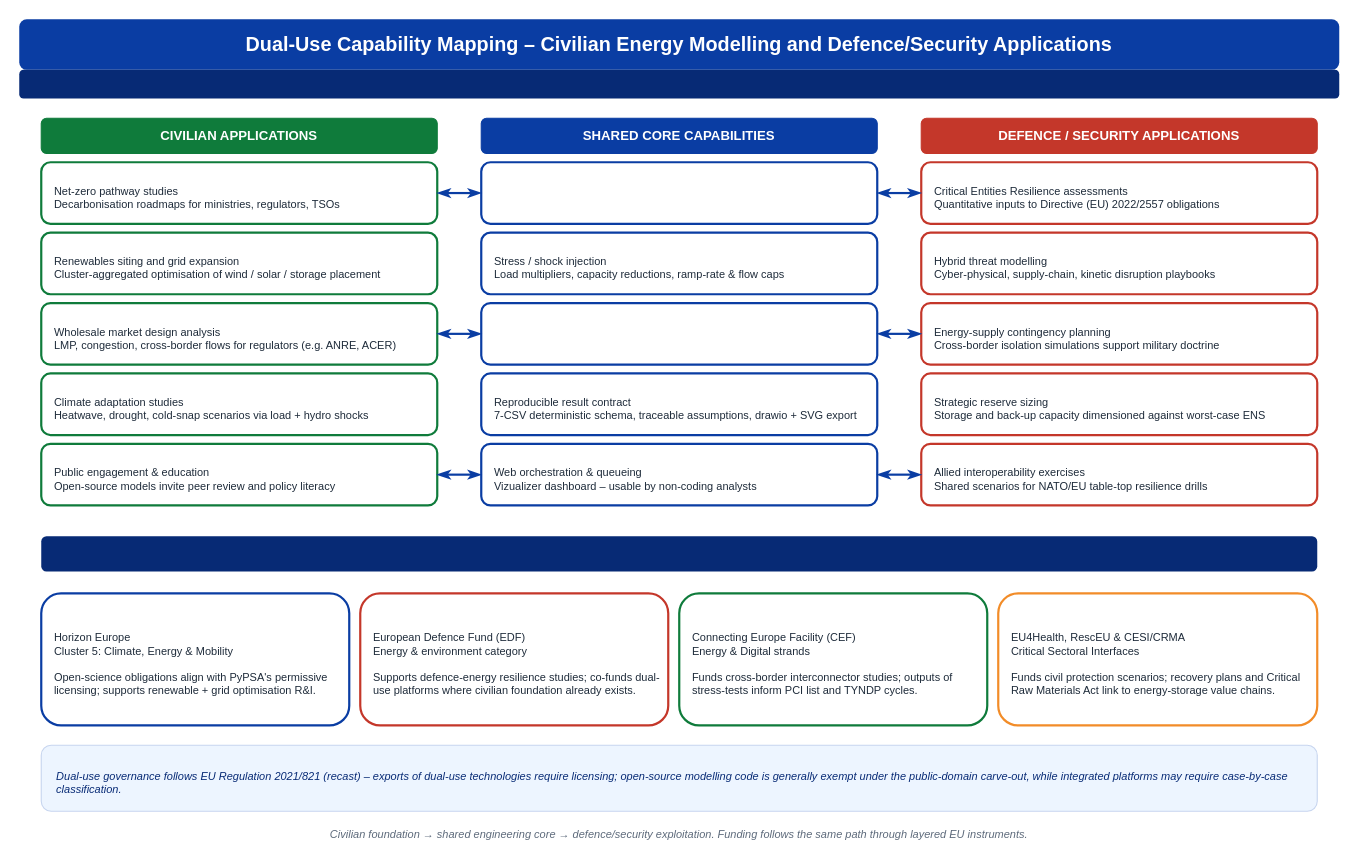
Some shapes in this 1357 by 865 pixel diagram are drawn without their labels. The shapes that lost their labels are listed below. From the top down, each one's centre as x and y in pixels, then its label:
the point at 679,83: Same modelling pipeline; differentiated end-uses; shared EU funding pathway
the point at 679,192: Network optimisation engine PyPSA + Snakemake DAG + SCIP/HiGHS solver
the point at 679,333: Open data ingestion ECMWF ERA5, ENTSO-E, Zenodo open datasets
the point at 679,553: Contemporary EU Funding Instruments Aligned With Dual-Use Energy Modelling
